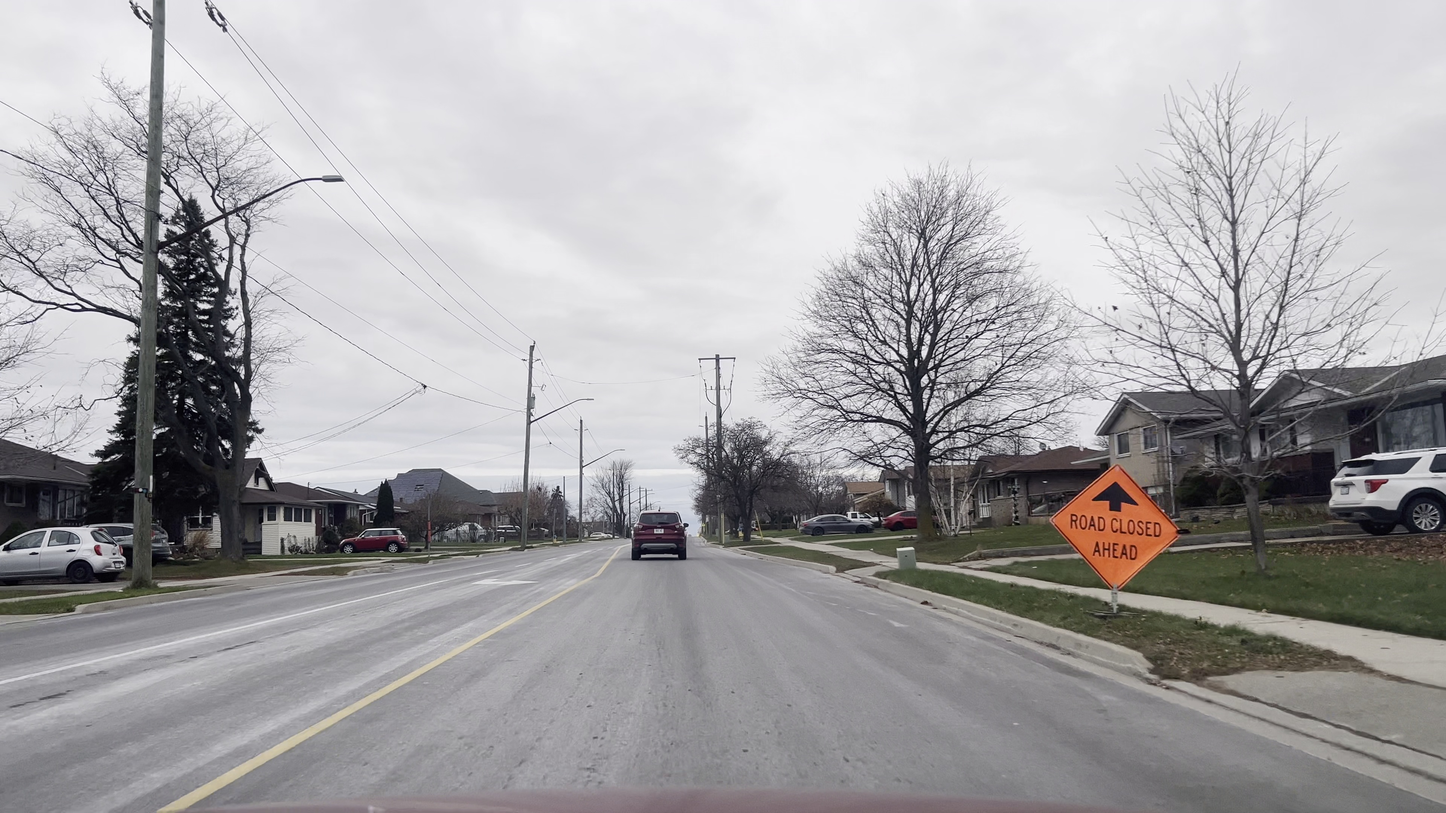construction: (1043, 429, 1185, 656)
